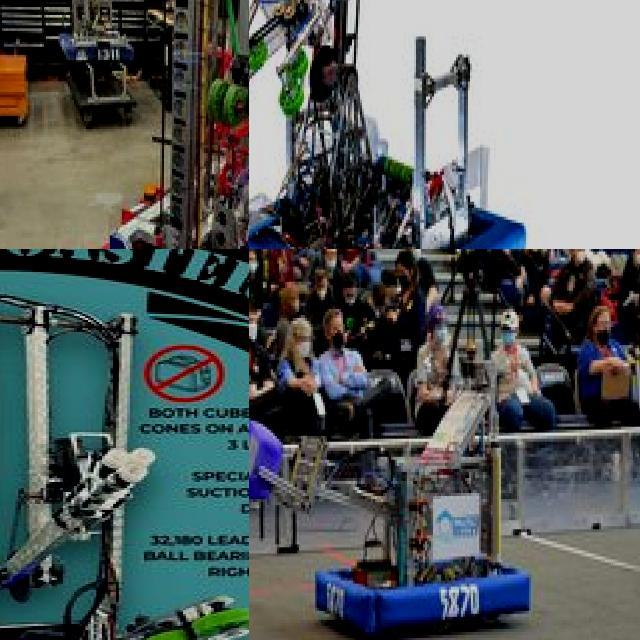FRC-Robots: (0, 282, 249, 640), (249, 390, 543, 640), (249, 0, 536, 249), (41, 0, 249, 249)
